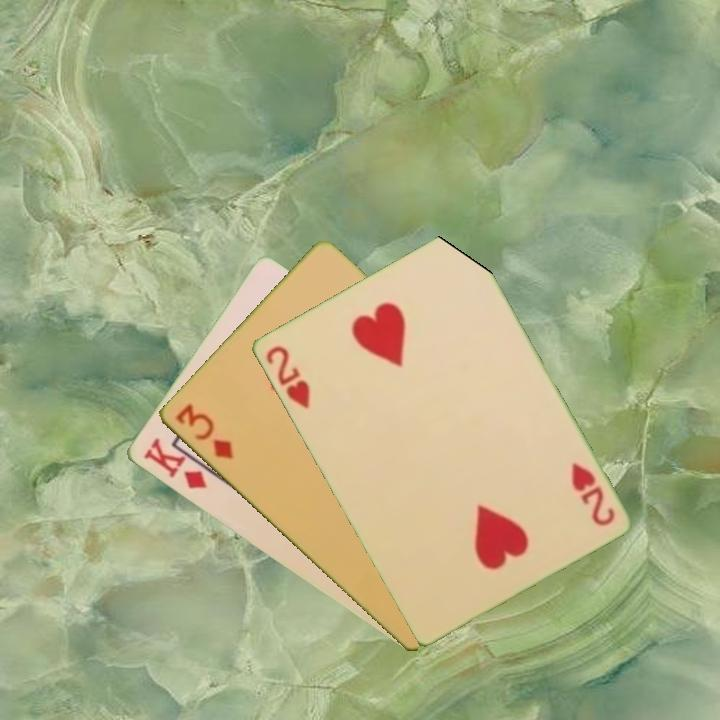2h: (261, 341, 313, 413), (567, 458, 617, 529)
3d: (171, 400, 236, 463)
Kd: (139, 434, 210, 492)
